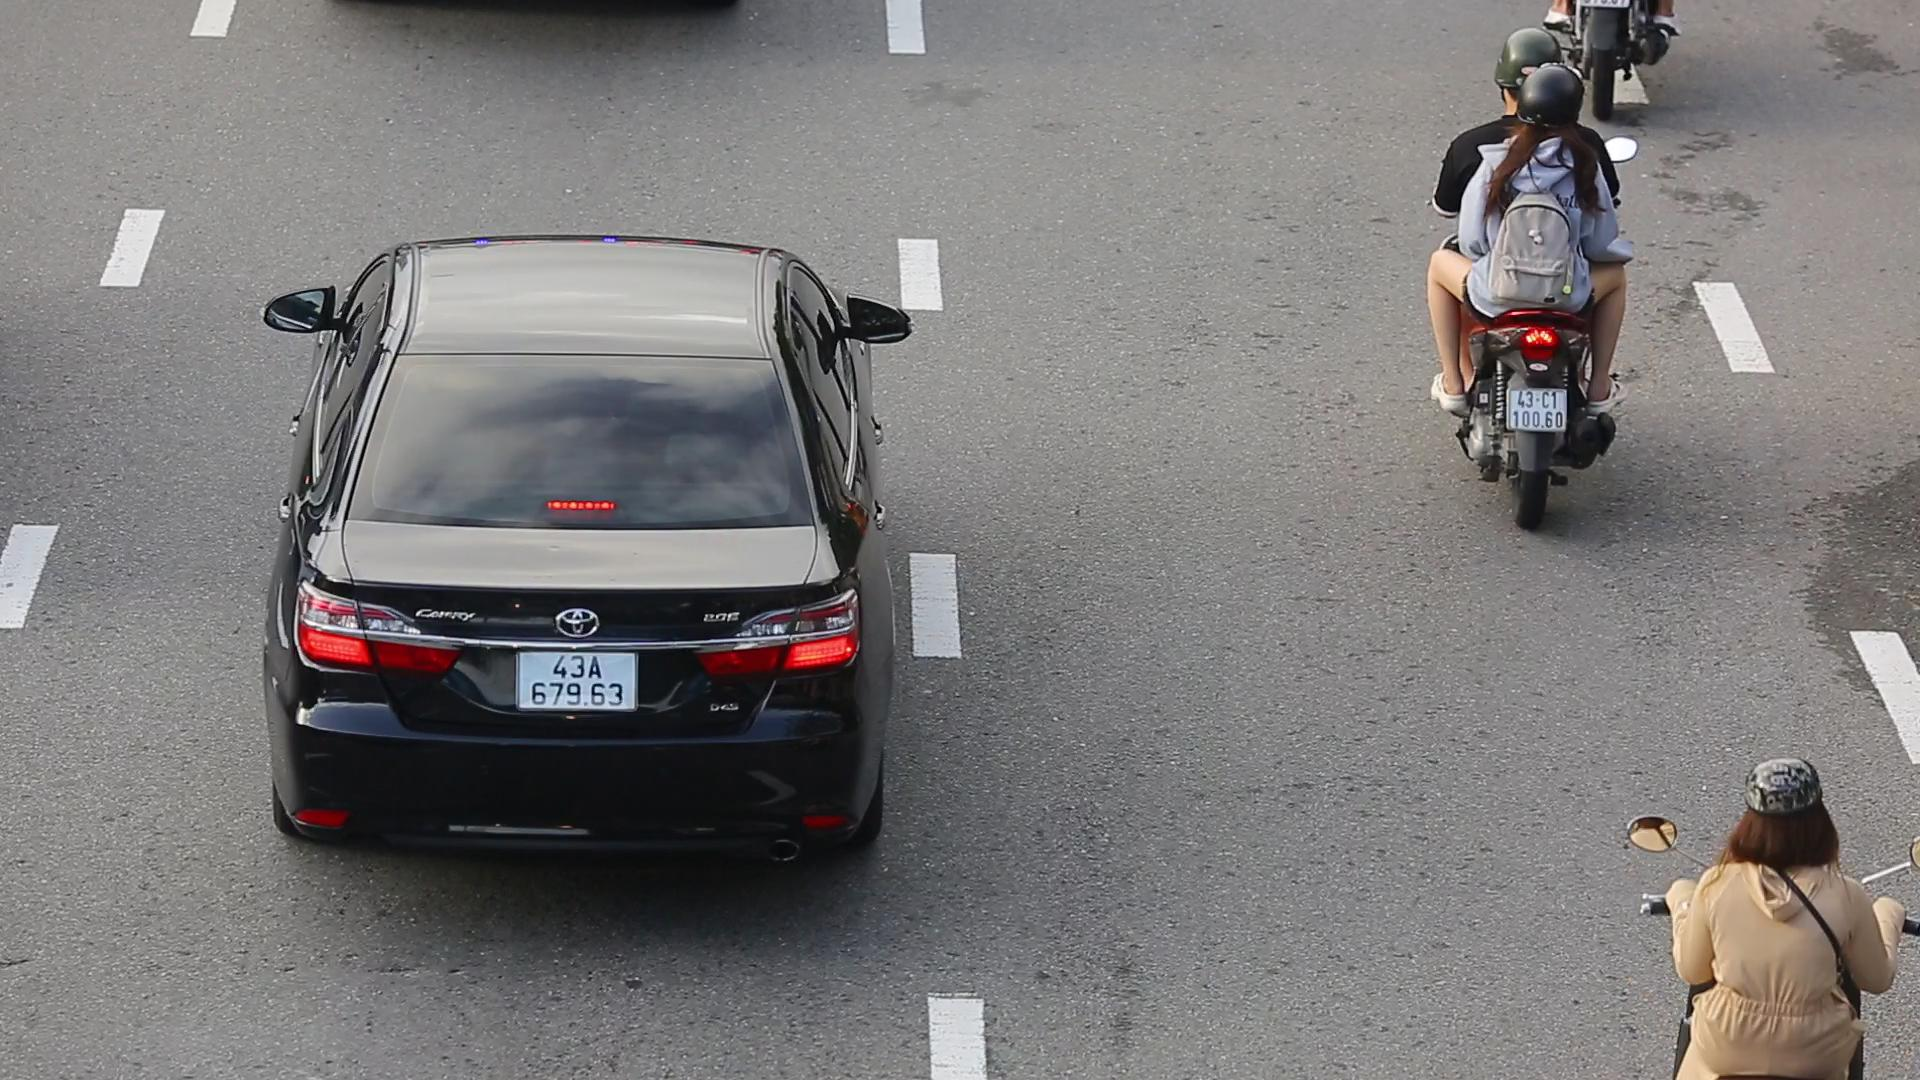motobike: (1418, 21, 1655, 541)
